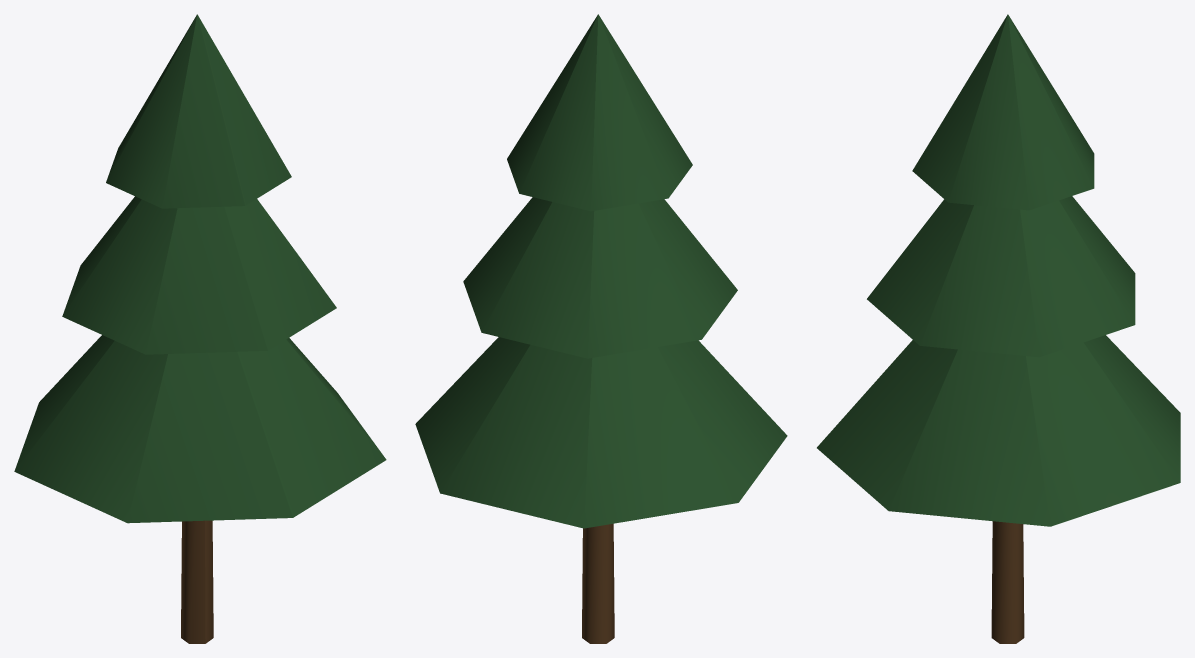
File: tree-pine.glb
The picture shows the model from 3 angles, left to right: view 1: azimuth 30°, elevation 25°; view 2: azimuth 150°, elevation 25°; view 3: azimuth 270°, elevation 25°; orthographic projection.
Size of the model in its own units: 4.09 by 7.55 by 3.99.
